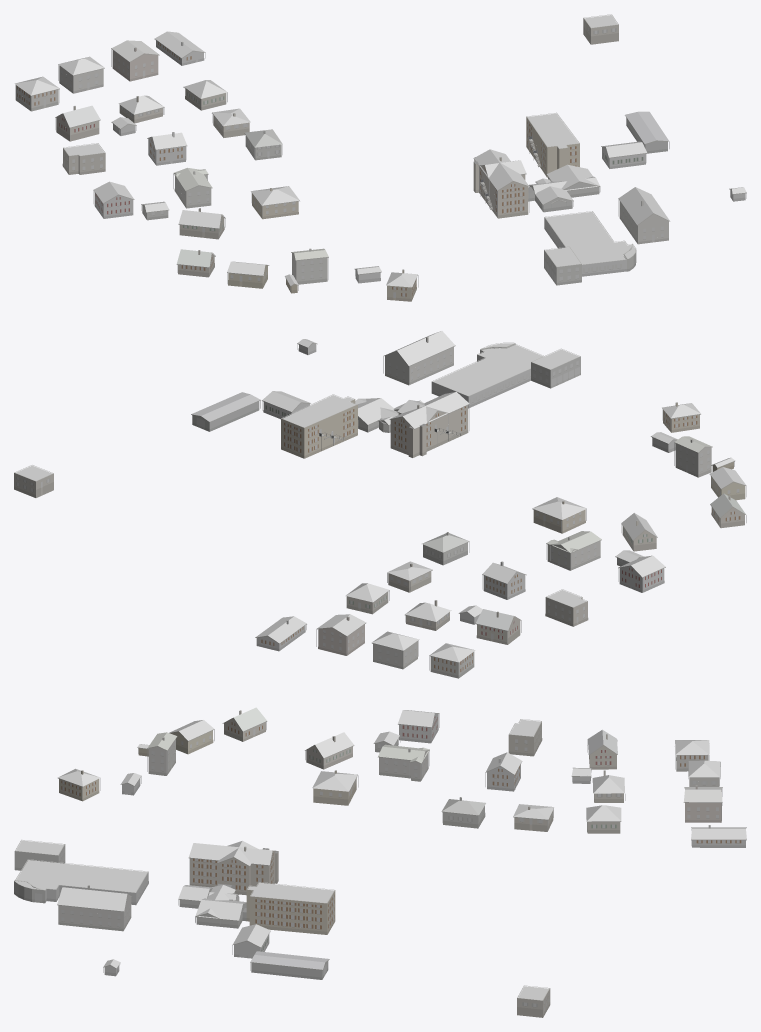
The picture shows the model from 3 angles, top to bottom: view 1: azimuth 30°, elevation 25°; view 2: azimuth 150°, elevation 25°; view 3: azimuth 270°, elevation 25°; orthographic projection. The views are drawn at different scales.
Visible parts, largest first — view 1: bld; view 2: bld; view 3: bld.
Part boxes in pixels (x1,y1,x2,y2): bld: (14,14,746,301); bld: (14,331,746,678); bld: (14,707,746,1017).
Size of the model in its own units: 231 by 16.1 by 244.
